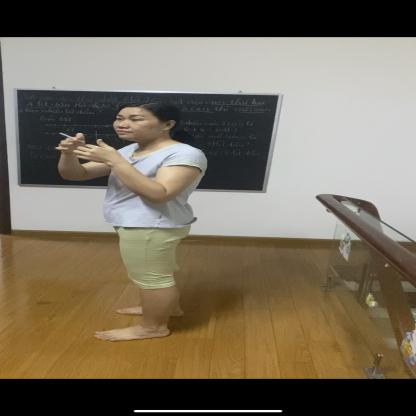cigarette: (57, 132, 74, 140)
person: (56, 93, 205, 349)
